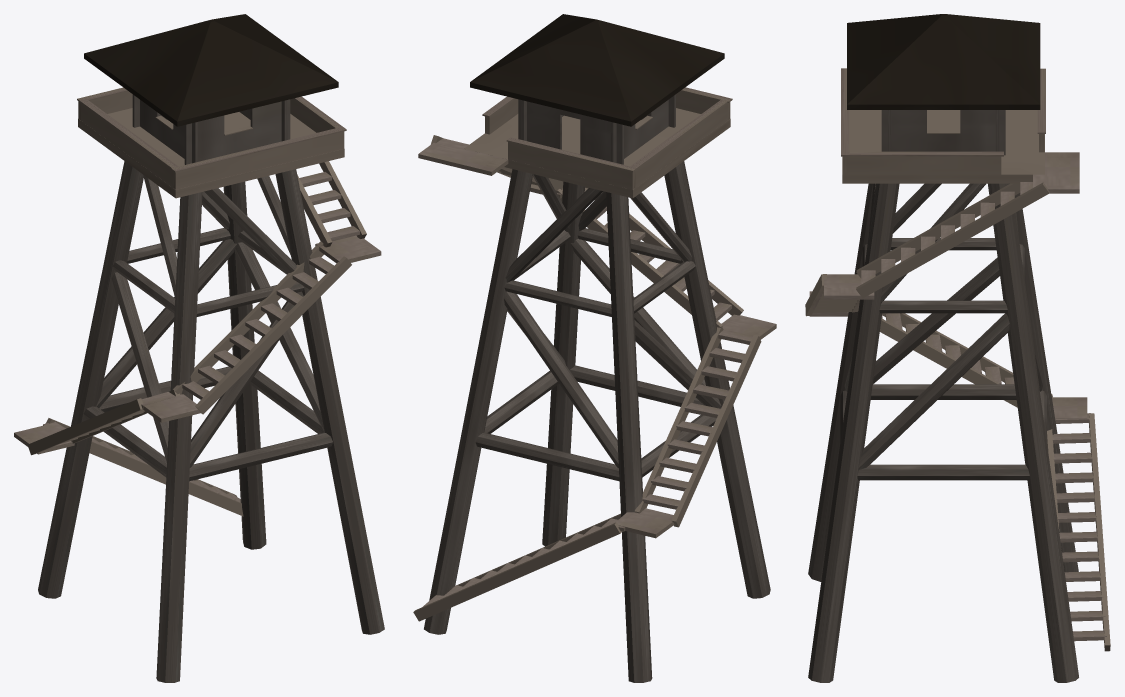
Rendered from Watchtower.fbx.
The picture shows the model from 3 angles, left to right: view 1: azimuth 30°, elevation 25°; view 2: azimuth 150°, elevation 25°; view 3: azimuth 270°, elevation 25°; orthographic projection. The views are drawn at different scales.
Parts seen in each view (by area): view 1: Cube.027, Cylinder, Cylinder.002, Cylinder.001, Cylinder.003, Cube, Cube.026, Cube.001, Cube.019, Cube.007, Cylinder.017, Cylinder.018 (+27 smaller); view 2: Cube.027, Cylinder.001, Cylinder.003, Cylinder, Cylinder.002, Cube, Cube.006, Cube.025, Cylinder.017, Cube.013, Cube.002, Cylinder.004 (+26 smaller); view 3: Cube.027, Cylinder.003, Cylinder.002, Cube, Cube.005, Cube.024, Cylinder, Cylinder.019, Cube.003, Cube.022, Cylinder.007, Cylinder.001 (+19 smaller).
Boxes of the visible parts, x1=… form: Cube.027: x1=84, y1=14, x2=338, y2=126; Cylinder: x1=156, y1=192, x2=202, y2=682; Cylinder.002: x1=275, y1=169, x2=384, y2=634; Cylinder.001: x1=38, y1=161, x2=143, y2=598; Cylinder.003: x1=223, y1=181, x2=266, y2=549; Cube: x1=78, y1=108, x2=344, y2=198; Cube.026: x1=184, y1=99, x2=290, y2=164; Cube.001: x1=173, y1=131, x2=344, y2=189; Cube.019: x1=195, y1=256, x2=351, y2=414; Cube.007: x1=182, y1=256, x2=333, y2=399; Cylinder.017: x1=96, y1=239, x2=237, y2=407; Cylinder.018: x1=111, y1=272, x2=168, y2=462; Cube.027: x1=470, y1=14, x2=724, y2=126; Cylinder.001: x1=606, y1=192, x2=652, y2=682; Cylinder.003: x1=424, y1=169, x2=532, y2=634; Cylinder: x1=664, y1=161, x2=770, y2=598; Cylinder.002: x1=542, y1=181, x2=584, y2=546; Cube: x1=464, y1=108, x2=730, y2=198; Cube.006: x1=642, y1=329, x2=759, y2=509; Cube.025: x1=518, y1=99, x2=623, y2=164; Cylinder.017: x1=504, y1=291, x2=618, y2=468; Cube.013: x1=413, y1=522, x2=622, y2=621; Cube.002: x1=508, y1=142, x2=635, y2=189; Cylinder.004: x1=475, y1=432, x2=619, y2=480; Cube.027: x1=847, y1=14, x2=1040, y2=109; Cylinder.003: x1=988, y1=183, x2=1078, y2=682; Cylinder.002: x1=808, y1=183, x2=899, y2=682; Cube: x1=842, y1=110, x2=1044, y2=183; Cube.005: x1=1052, y1=413, x2=1106, y2=641; Cube.024: x1=881, y1=110, x2=1005, y2=155; Cylinder: x1=808, y1=183, x2=873, y2=581; Cylinder.019: x1=858, y1=313, x2=1009, y2=469; Cube.003: x1=848, y1=156, x2=1001, y2=174; Cube.022: x1=856, y1=182, x2=1049, y2=298; Cylinder.007: x1=857, y1=464, x2=1029, y2=480; Cylinder.001: x1=1015, y1=193, x2=1078, y2=572.
Size of the model in its own units: 1772 by 4061 by 1829.
7 materials, 7 textured.
